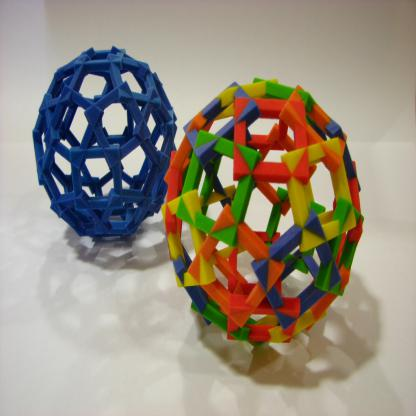Ball: (160, 76, 364, 350), (33, 43, 177, 244)
